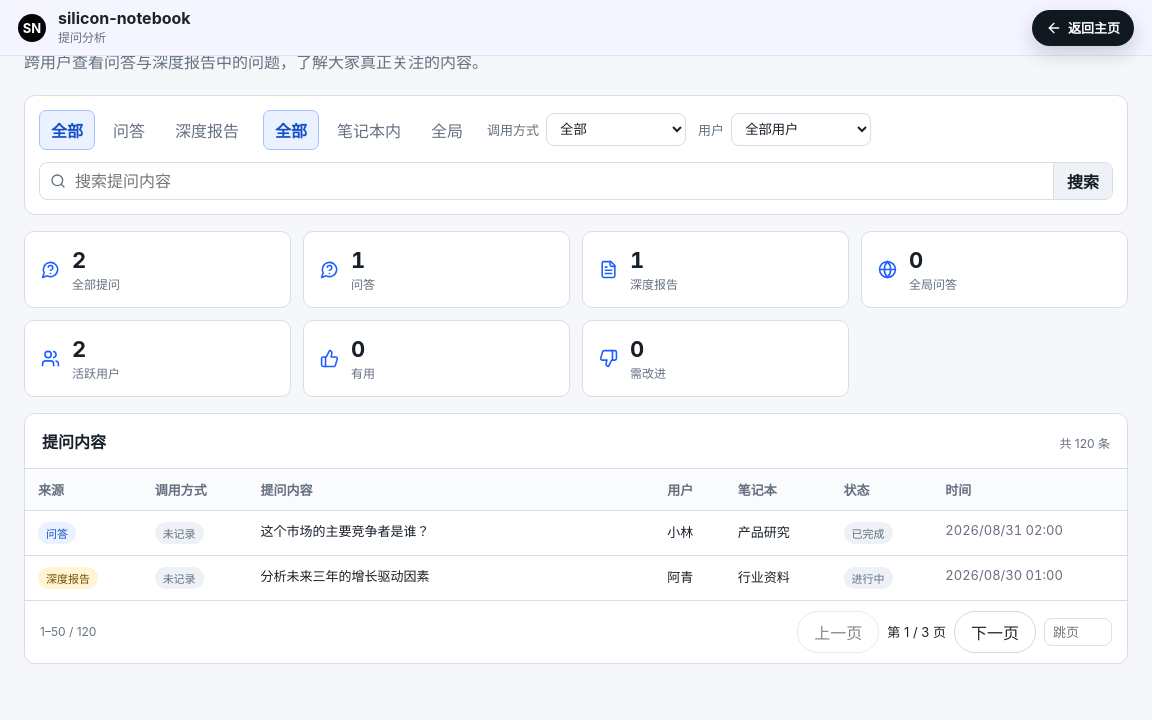
Test: 停在末页而提问变少时退回新的最后一页，不显示空页
(page scrolled)
Expected: the text "这个市场的主要竞争者是谁？" is shown, [247, 510, 654, 555]
Type "3" into the number field named "跳到第几页".
click(1078, 632); type("3")  # box [1044, 618, 1112, 646]
Then press Enter
(page scrolled)
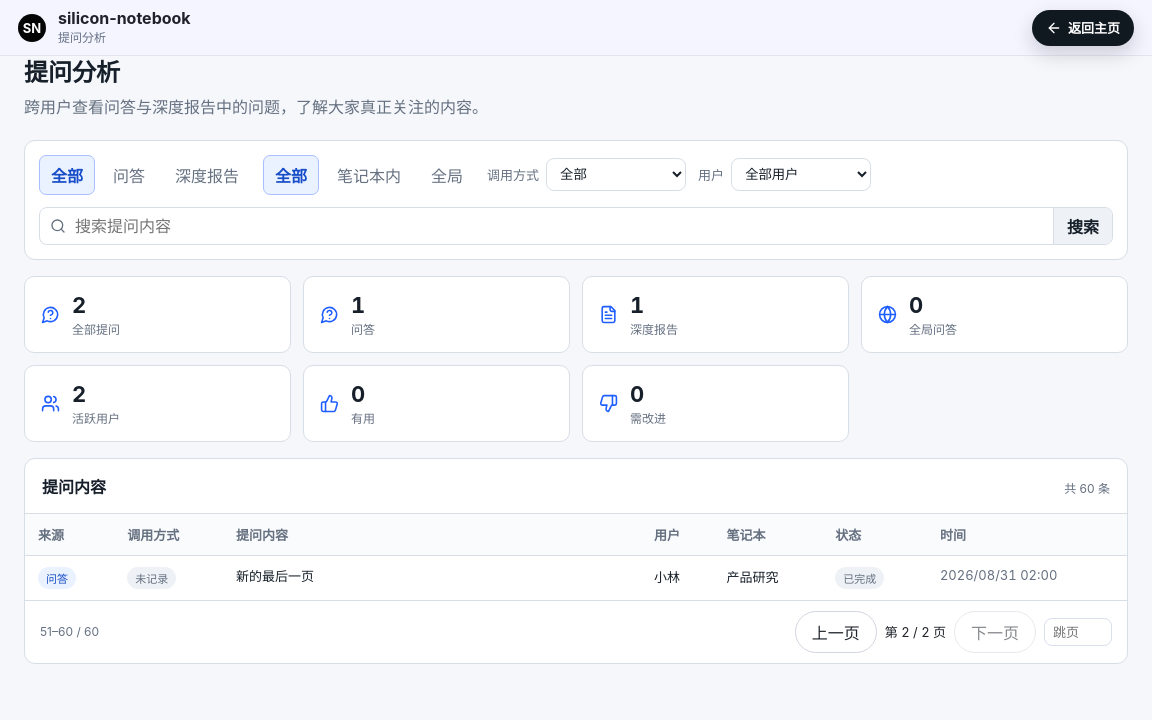
Expected: the text "新的最后一页" is shown, [223, 555, 641, 600]
Expected: the text "第 2 / 2 页" is shown, [885, 622, 946, 641]
